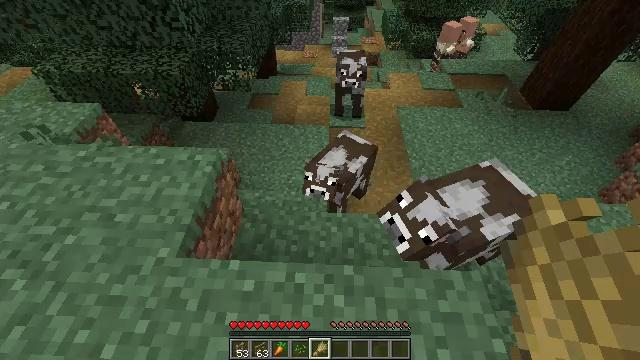cow: (381, 159, 541, 269), (307, 129, 375, 212), (336, 51, 367, 119)
